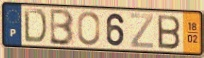6: (105, 11, 126, 48)
B: (49, 8, 76, 48), (156, 13, 182, 50)
D: (23, 7, 48, 45)
O: (77, 10, 101, 47)
Z: (129, 13, 155, 50)
